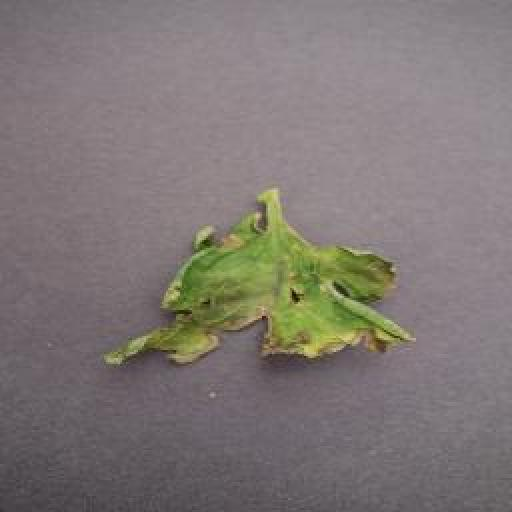Late Blight: (97, 211, 416, 369)
